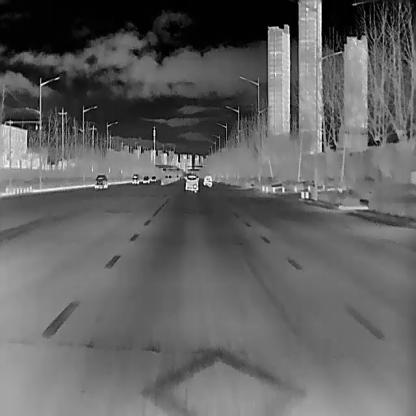car: (185, 174, 198, 192), (94, 173, 108, 188), (202, 174, 211, 185), (132, 172, 139, 184), (141, 175, 149, 183), (150, 175, 156, 180)
